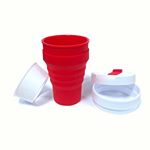cups: (39, 33, 95, 108)
